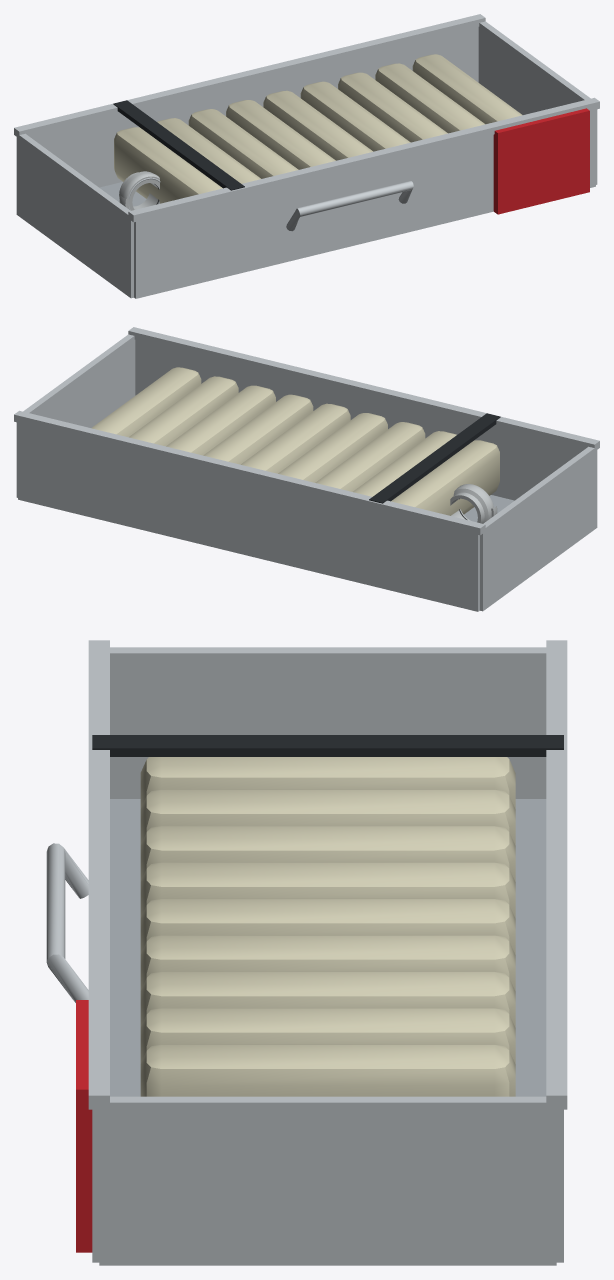
File: ob_hose_basket_2.glb
3 renders of one model, top to bottom at view 1: azimuth 30°, elevation 25°; view 2: azimuth 150°, elevation 25°; view 3: azimuth 270°, elevation 25°, orthographic. The views are drawn at different scales.
Visible parts, largest first — view 1: ob_hose_basket_2; view 2: ob_hose_basket_2; view 3: ob_hose_basket_2.
Part boxes in pixels (left/top/right/bottom): ob_hose_basket_2: left=14, top=14, right=599, bottom=298; ob_hose_basket_2: left=14, top=327, right=599, bottom=611; ob_hose_basket_2: left=46, top=640, right=567, bottom=1265.
Size of the model in its own units: 0.91 by 0.16 by 0.44.
